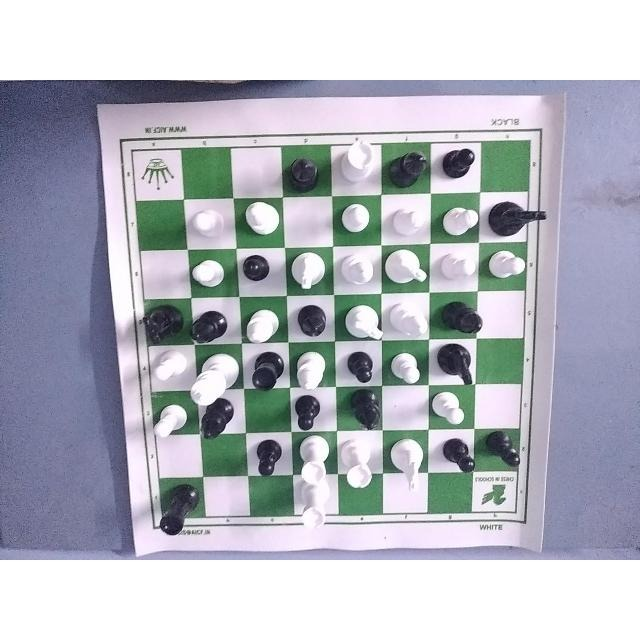black-bishop: (386, 141, 430, 191), (194, 410, 240, 454), (439, 294, 483, 338), (349, 390, 388, 434), (289, 146, 324, 190), (296, 297, 330, 341), (189, 303, 226, 343)
black-knight: (489, 203, 549, 239), (144, 298, 185, 350), (437, 343, 477, 388)
black-pawn: (441, 138, 481, 184), (488, 427, 528, 472), (439, 434, 475, 478), (243, 247, 280, 288), (293, 399, 337, 431), (348, 347, 380, 388), (254, 434, 283, 477)
black-rook: (157, 482, 211, 543), (250, 346, 288, 394)
white-bishop: (341, 244, 385, 293), (240, 301, 284, 344), (240, 196, 282, 240), (294, 346, 328, 393), (390, 299, 429, 339)
white-king: (189, 348, 238, 406)
white-knight: (385, 433, 429, 493), (383, 249, 430, 293), (290, 249, 330, 293), (343, 301, 383, 343)
white-pawn: (486, 247, 531, 287), (383, 203, 429, 241), (152, 401, 187, 447), (188, 254, 227, 295), (388, 345, 424, 387), (339, 199, 377, 237), (441, 245, 477, 283), (431, 392, 471, 425), (439, 204, 479, 236), (154, 350, 185, 387), (191, 203, 219, 240)
white-rook: (332, 132, 380, 188), (290, 484, 330, 536), (339, 441, 377, 493), (292, 432, 328, 484)
